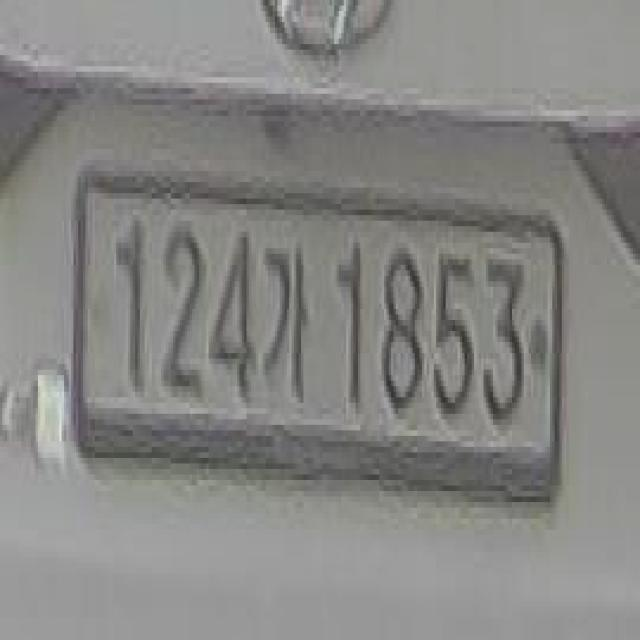illegal_plate: (74, 165, 568, 529)
